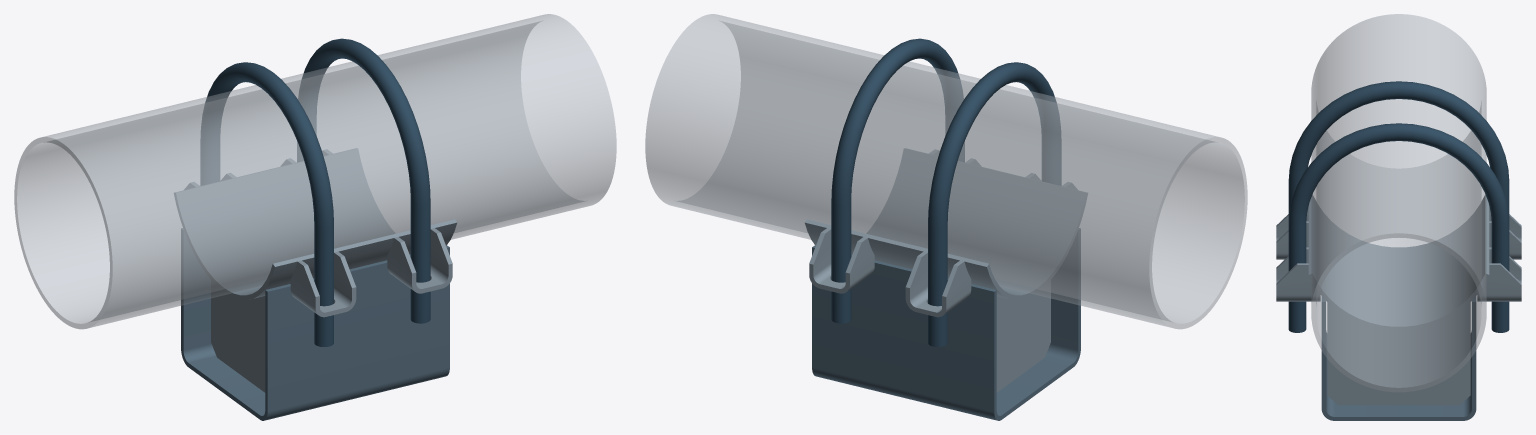
File: TS-733.00.00.00-opora-dn159-L170.glb
The picture shows the model from 3 angles, left to right: view 1: azimuth 30°, elevation 25°; view 2: azimuth 150°, elevation 25°; view 3: azimuth 270°, elevation 25°; orthographic projection. The views are drawn at different scales.
Visible parts, largest first — view 1: truba, skoba_0, podushka_3, homut_0, homut_1, rebro4_1, ushko_7, ushko_5; view 2: truba, skoba_0, podushka_3, homut_0, homut_1, rebro4_1, ushko_6, ushko_4; view 3: truba, podushka_3, rebro4_2, homut_1, homut_0, skoba_0, ushko_6, ushko_7, ushko_4, ushko_5.
Boxes of the visible parts, x1,y1,x2,y2 form: truba: (14, 14, 616, 329); skoba_0: (181, 228, 449, 420); podushka_3: (174, 148, 457, 300); homut_0: (200, 62, 333, 346); homut_1: (297, 38, 430, 323); rebro4_1: (211, 280, 265, 392); ushko_7: (387, 228, 452, 293); ushko_5: (290, 251, 356, 317); truba: (645, 14, 1247, 329); skoba_0: (812, 228, 1080, 420); podushka_3: (804, 148, 1087, 300); homut_0: (928, 62, 1061, 346); homut_1: (831, 38, 964, 323); rebro4_1: (996, 280, 1050, 392); ushko_6: (809, 228, 874, 293); ushko_4: (905, 251, 971, 317); truba: (1311, 14, 1486, 392); podushka_3: (1308, 194, 1489, 330); rebro4_2: (1327, 302, 1470, 405); homut_1: (1288, 123, 1509, 332); homut_0: (1288, 81, 1509, 220); skoba_0: (1321, 297, 1476, 420); ushko_6: (1477, 247, 1521, 301); ushko_7: (1276, 247, 1320, 301); ushko_4: (1489, 207, 1521, 259); ushko_5: (1276, 207, 1308, 259).
Bounding box in the file's own units: 470 × 278 × 222.
